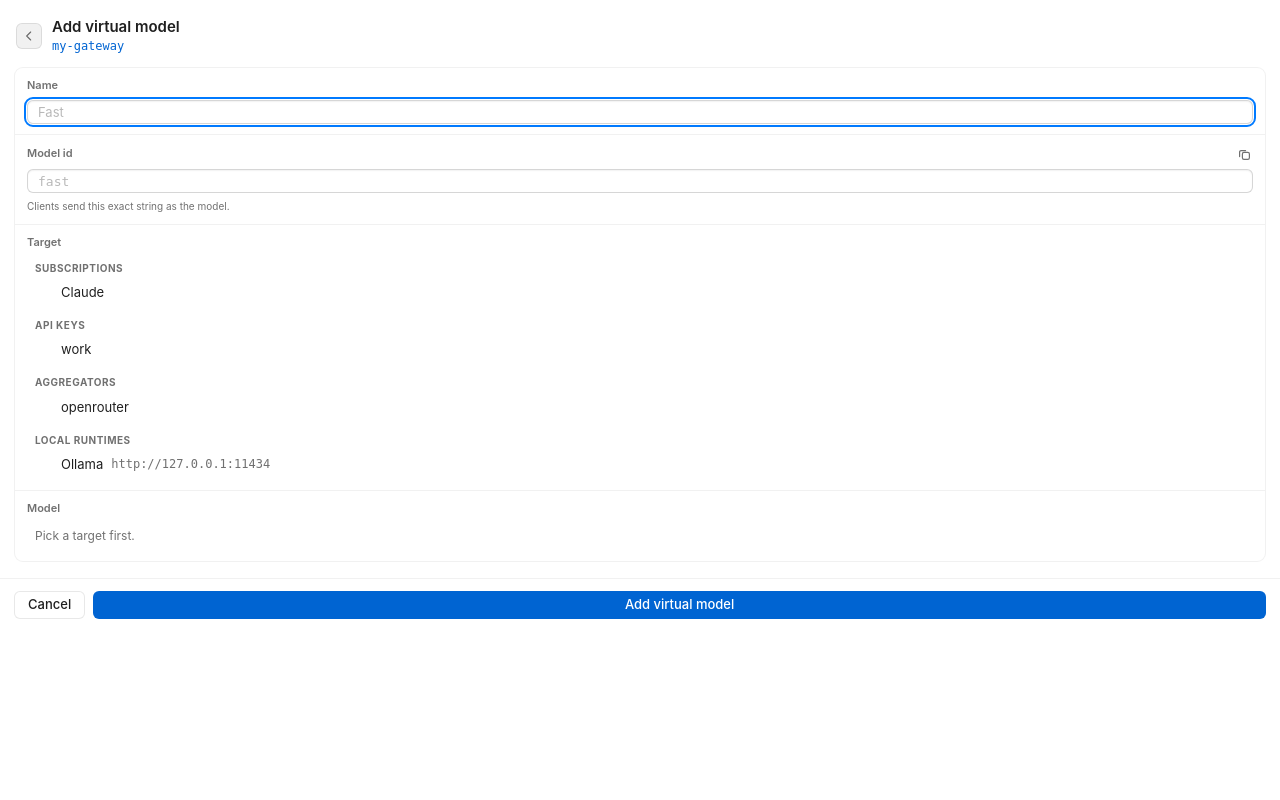
a query typed against a long list never strands the short list that replaces it
This screenshot has width=1280, height=800.
Click the button "work" at [76, 349], box [27,334,1253,365]
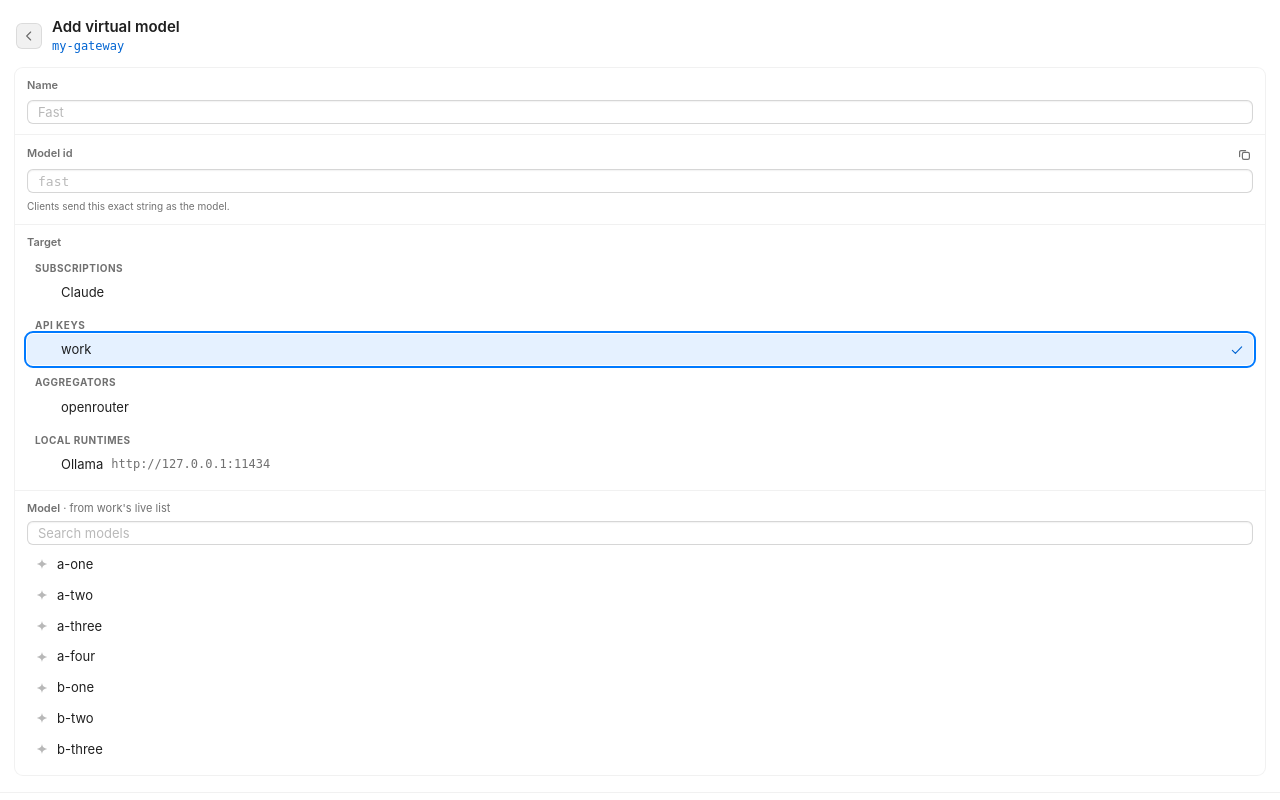
Type "zzz" into the search field labelled "Search models" at [640, 533], box [27,521,1253,545]
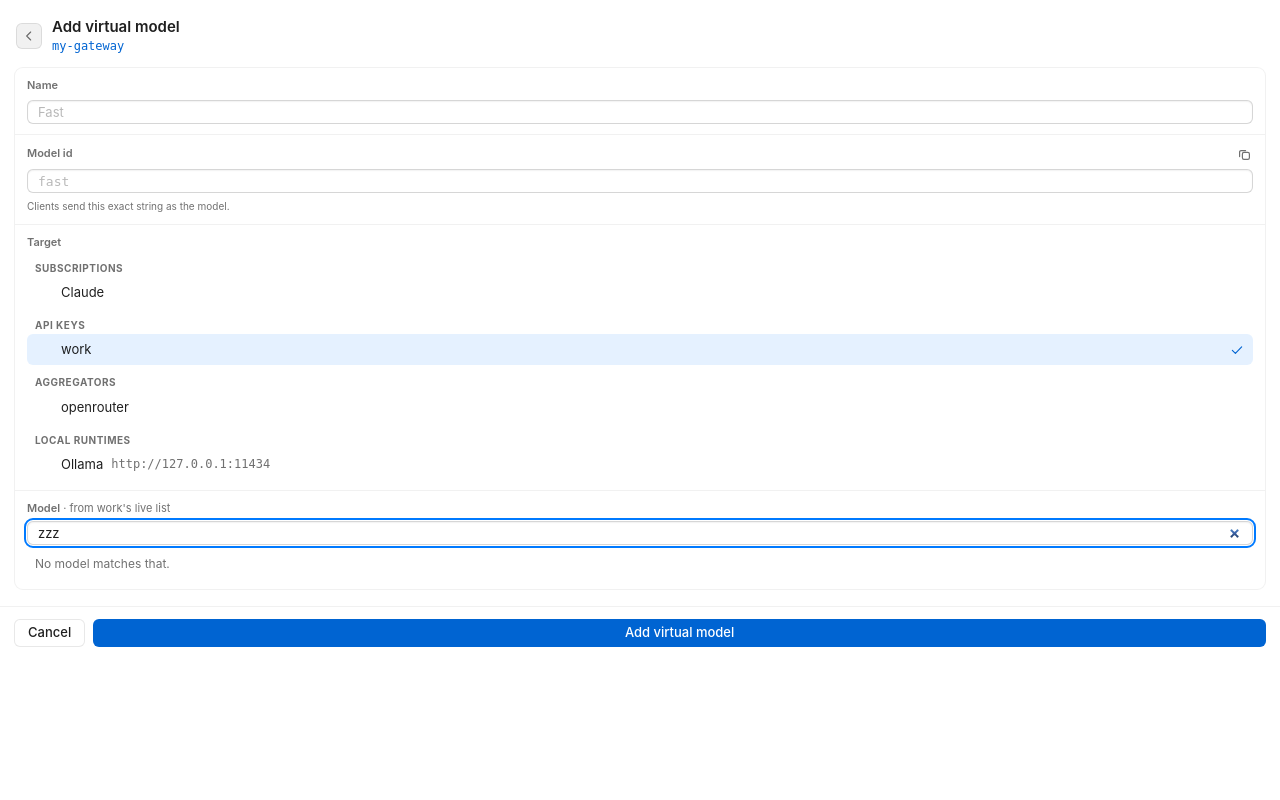
Click the button "openrouter" at [95, 407], box [27,392,1253,422]
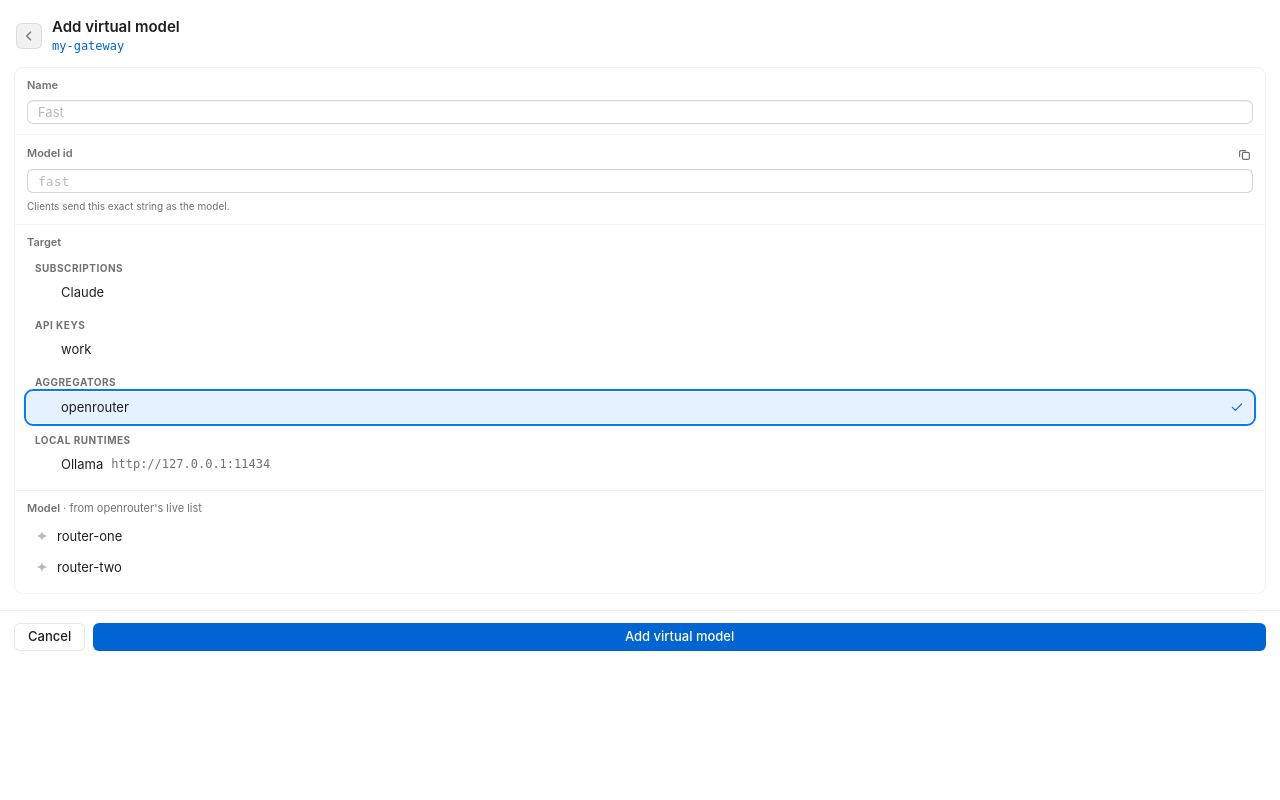
Result: the button "router-one" is shown at [27,521,1253,552]
Result: the button "router-two" is shown at [27,552,1253,582]
